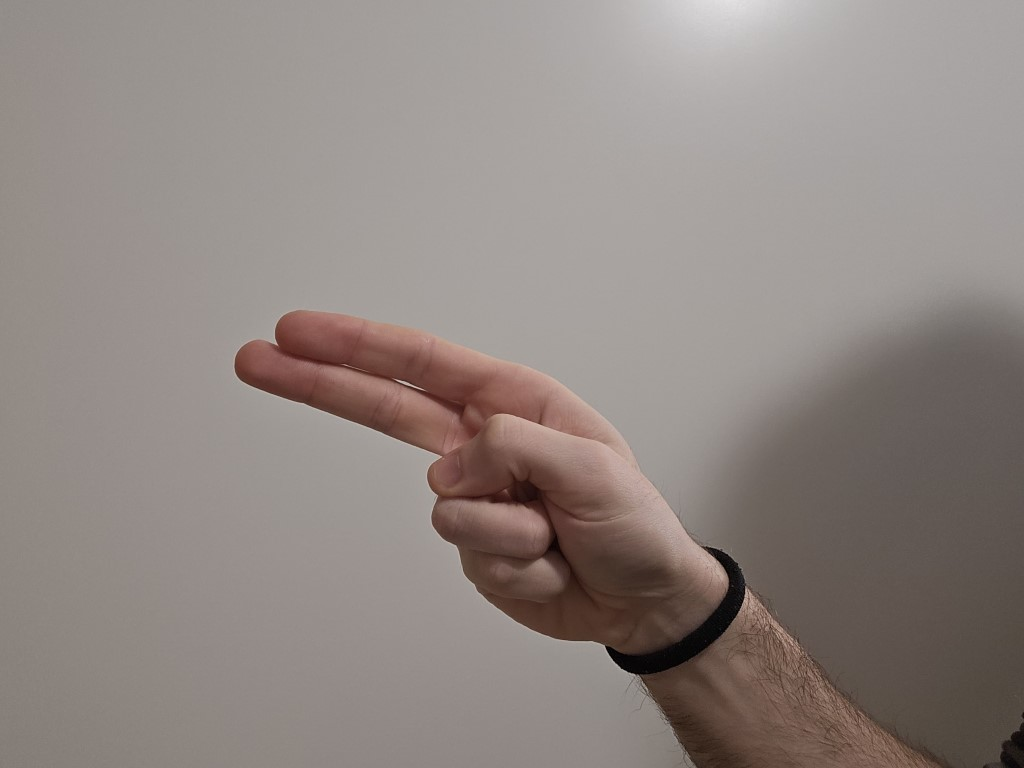h: (221, 302, 684, 631)
